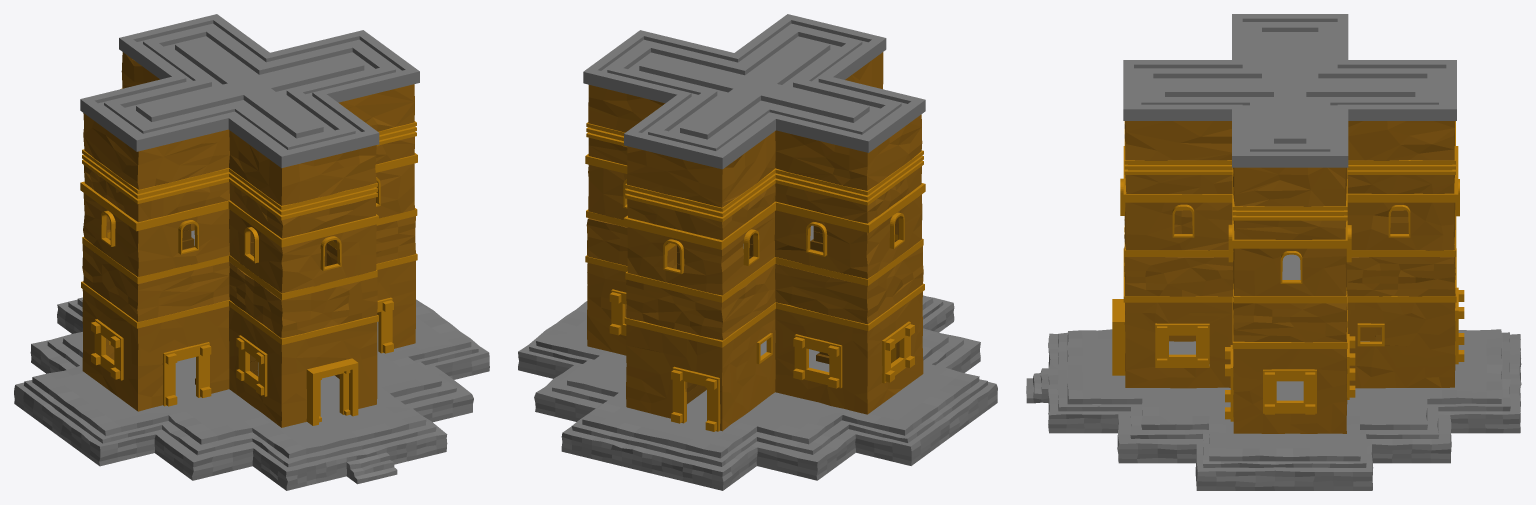
File: Lalibela Colored.fbx
The picture shows the model from 3 angles, left to right: view 1: azimuth 30°, elevation 25°; view 2: azimuth 150°, elevation 25°; view 3: azimuth 270°, elevation 25°; orthographic projection. The views are drawn at different scales.
Parts seen in each view (by area): view 1: Lalibela; view 2: Lalibela; view 3: Lalibela.
Part boxes in pixels (bbox=[...]): Lalibela: bbox=[14, 14, 489, 490]; Lalibela: bbox=[518, 14, 997, 490]; Lalibela: bbox=[1026, 14, 1521, 490].
Size of the model in its own units: 2498 by 1830 by 2662.
Materials: 1 (1 with a texture image).
